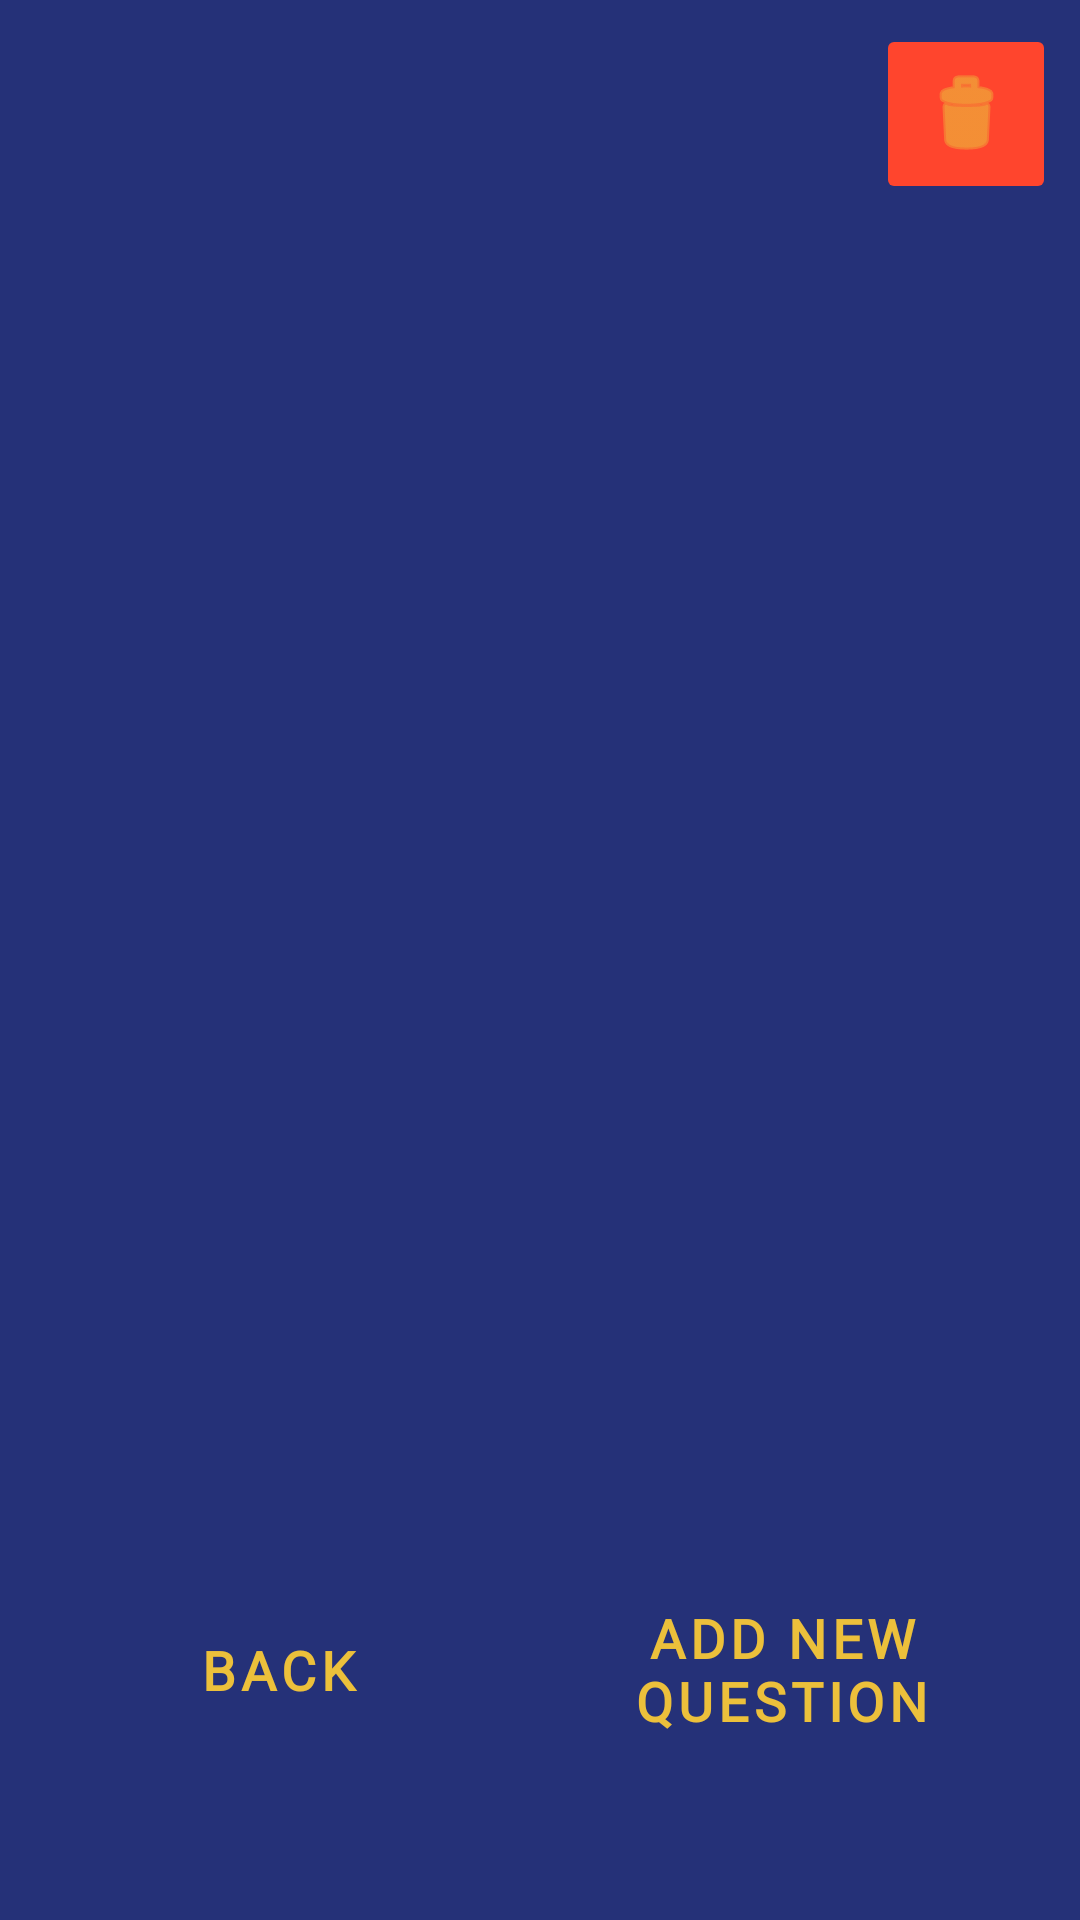

Locate icon controls on the screen. Image size 1080w x 1920h, boxes as BBox(x1, y1, x2, y2).
Bin: BBox(888, 42, 1044, 186)
